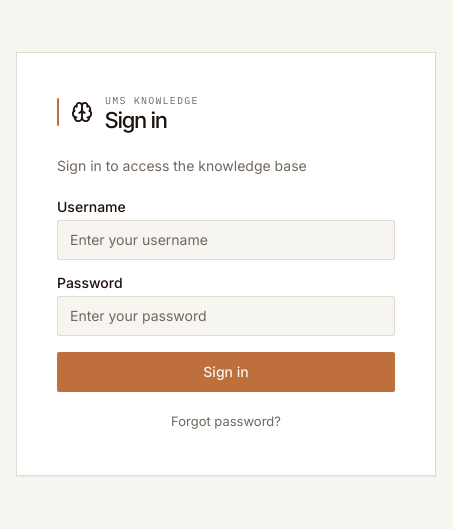
Test: LoginForm › shows error message on login failure
Type "admin" into the field labelled "Username". click: (226, 240)
box: [57,220,395,260]
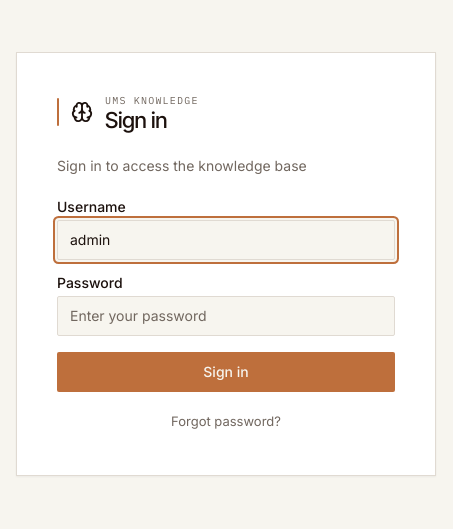
Type "wrong" into the password field labelled "Password". click: (226, 316)
box: [57,296,395,336]
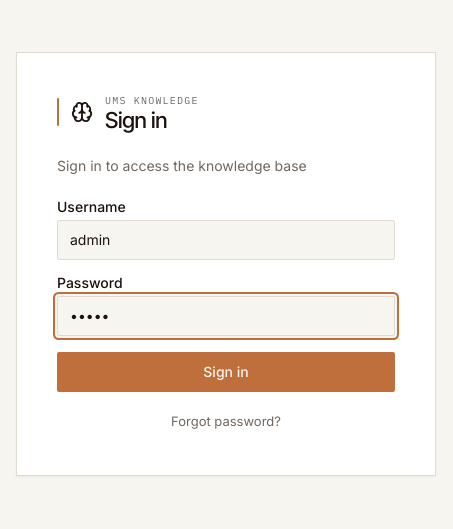
Click the button "Sign in". click: (226, 372)
box: [57,352,395,392]
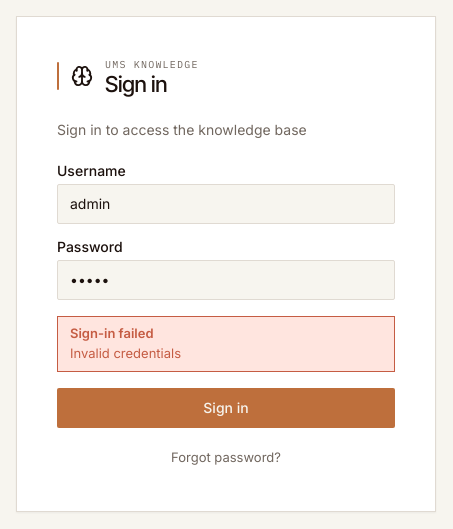
Expected: the text "Sign-in failed Invalid credentials" is shown, [57,316,395,372]
